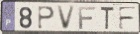8: (18, 6, 34, 29)
F: (118, 6, 138, 31), (78, 7, 97, 31)
P: (37, 5, 56, 30)
T: (99, 6, 115, 32)
V: (57, 5, 77, 31)
